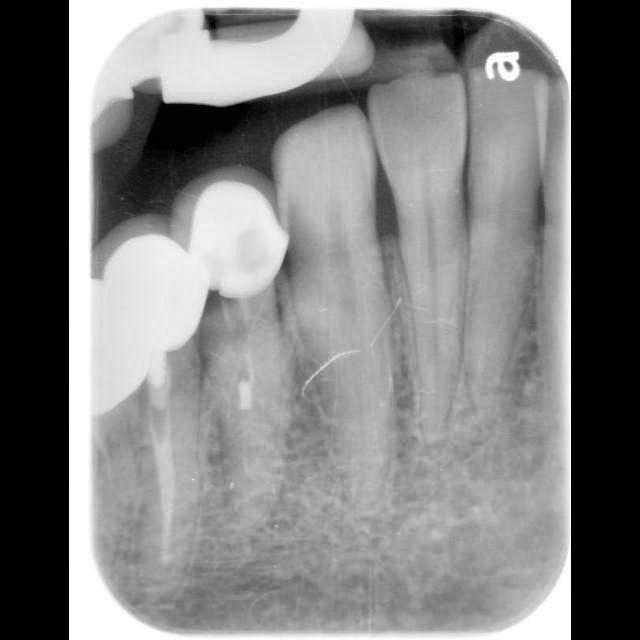tooth: (273, 106, 389, 510), (369, 72, 466, 448), (464, 69, 545, 396)
